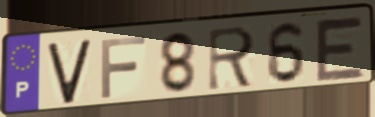6: (265, 20, 307, 86)
8: (157, 29, 199, 95)
E: (313, 15, 368, 84)
F: (99, 34, 149, 101)
R: (205, 24, 258, 93)
V: (45, 36, 94, 106)
